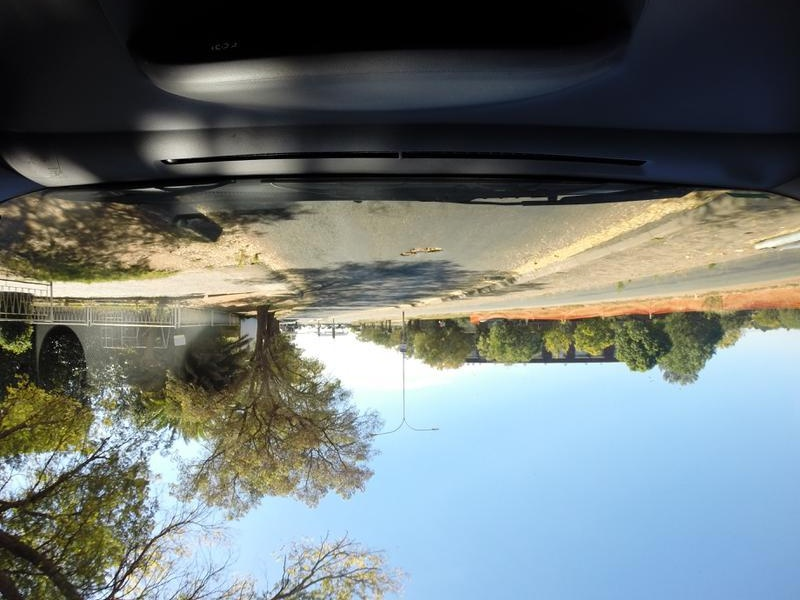pothole: (398, 241, 453, 261)
